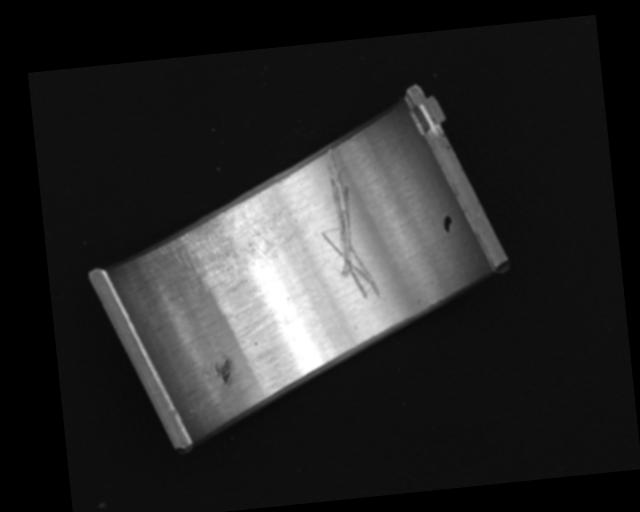blot: (442, 215, 454, 235)
bruise: (212, 355, 235, 387)
nick: (313, 143, 381, 303)
scratch: (151, 194, 291, 302)
